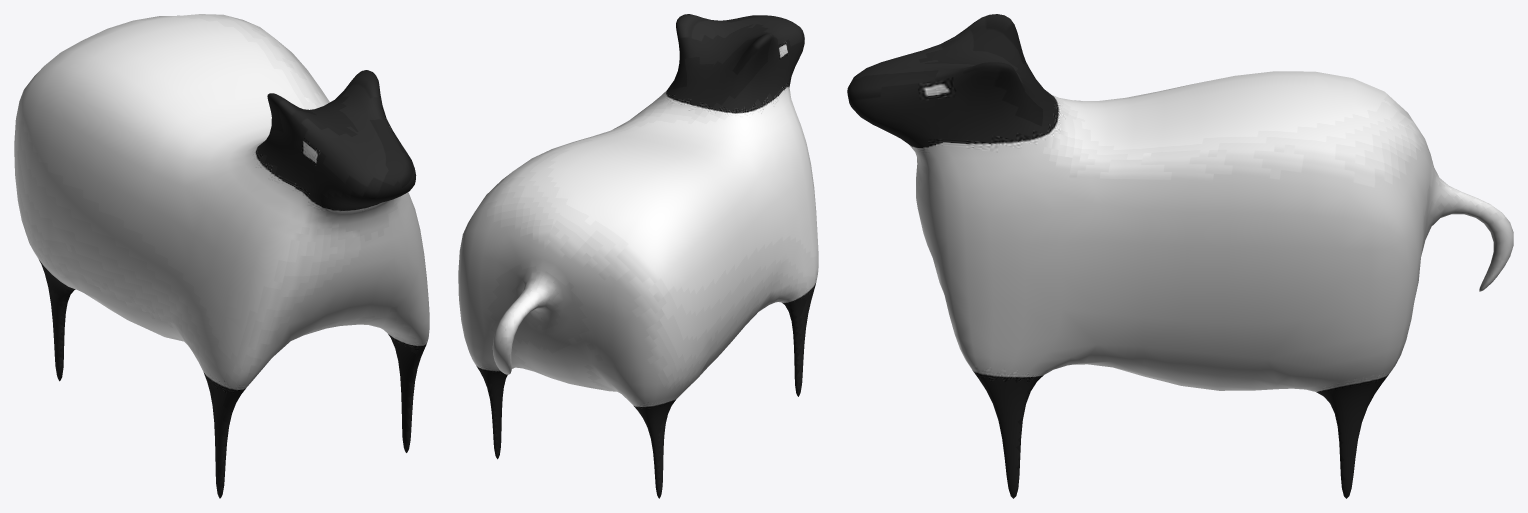
3 views of the same model, side by side, from view 1: azimuth 30°, elevation 25°; view 2: azimuth 150°, elevation 25°; view 3: azimuth 270°, elevation 25° (orthographic). The views are drawn at different scales.
Visible parts, largest first — view 1: Cube; view 2: Cube; view 3: Cube.
Boxes of the visible parts, <box> form: Cube: <box>14,14,429,498</box>; Cube: <box>458,14,818,498</box>; Cube: <box>847,14,1513,498</box>.
Bounding box in the file's own units: 0.9303 × 1.41 × 2.06.
Materials: 1 (1 with a texture image).
